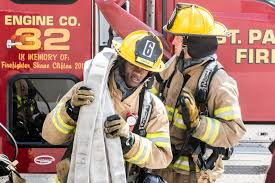emergent: (50, 32, 169, 183), (162, 1, 244, 182)
